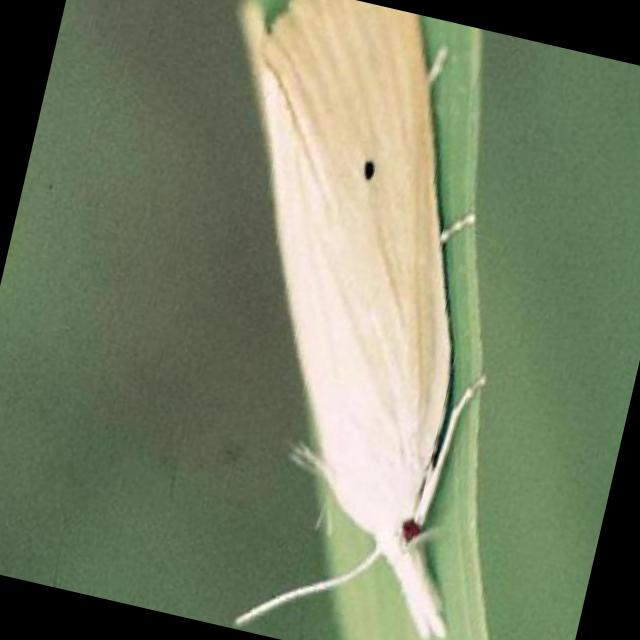stem-borer: (101, 0, 584, 640)
